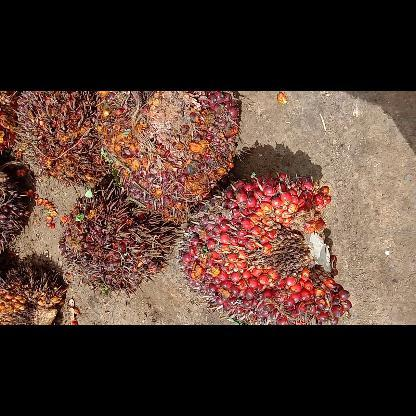TBS masak: (177, 174, 351, 324), (96, 90, 240, 222), (58, 180, 176, 296), (14, 91, 106, 183)
